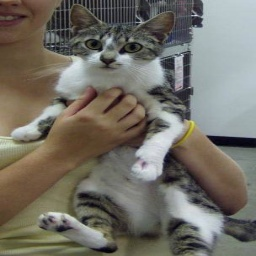cat: (13, 4, 229, 256)
